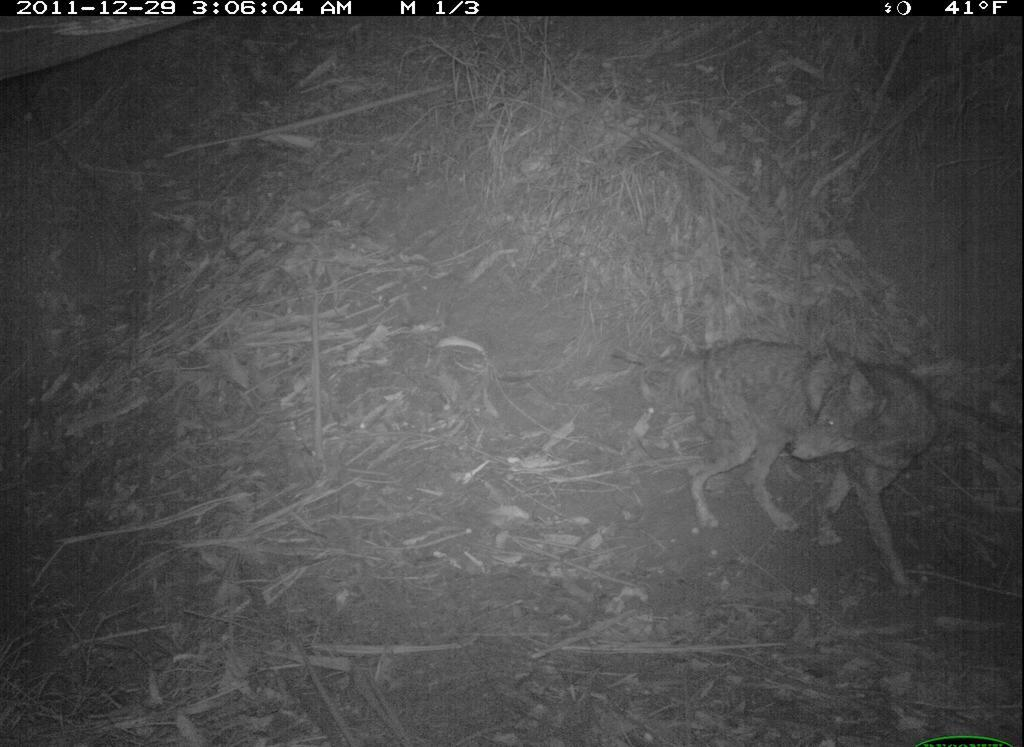coyote: (615, 340, 943, 602)
